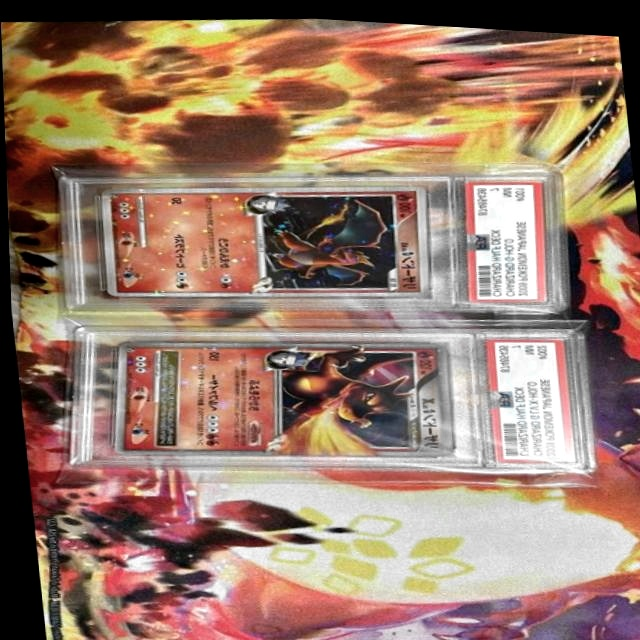card: (109, 338, 450, 452), (96, 180, 428, 295)
